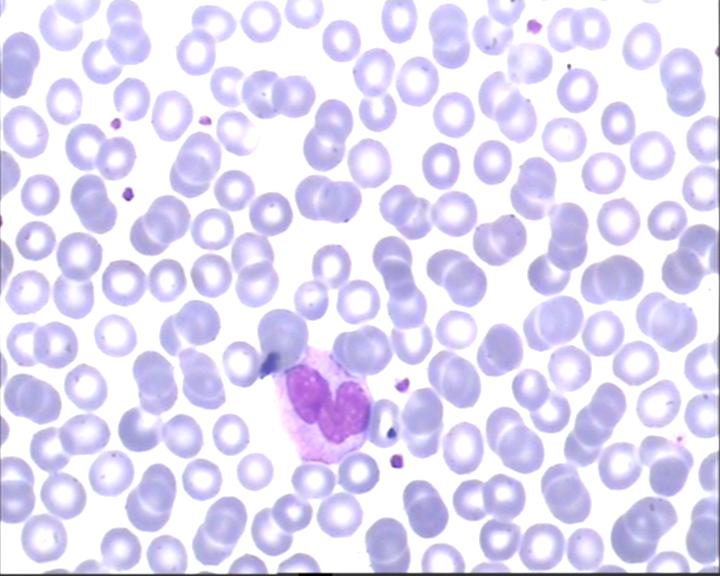mono: (268, 343, 375, 464)
